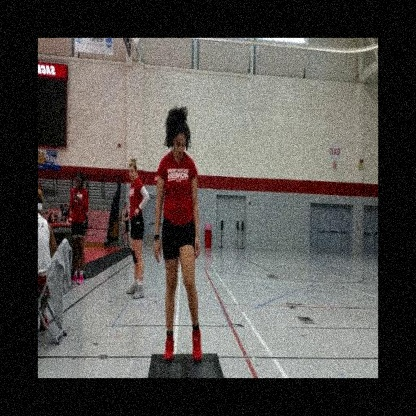lateral_flexion_right: (158, 109, 204, 362)
stance_width_normal: (157, 149, 204, 363)
